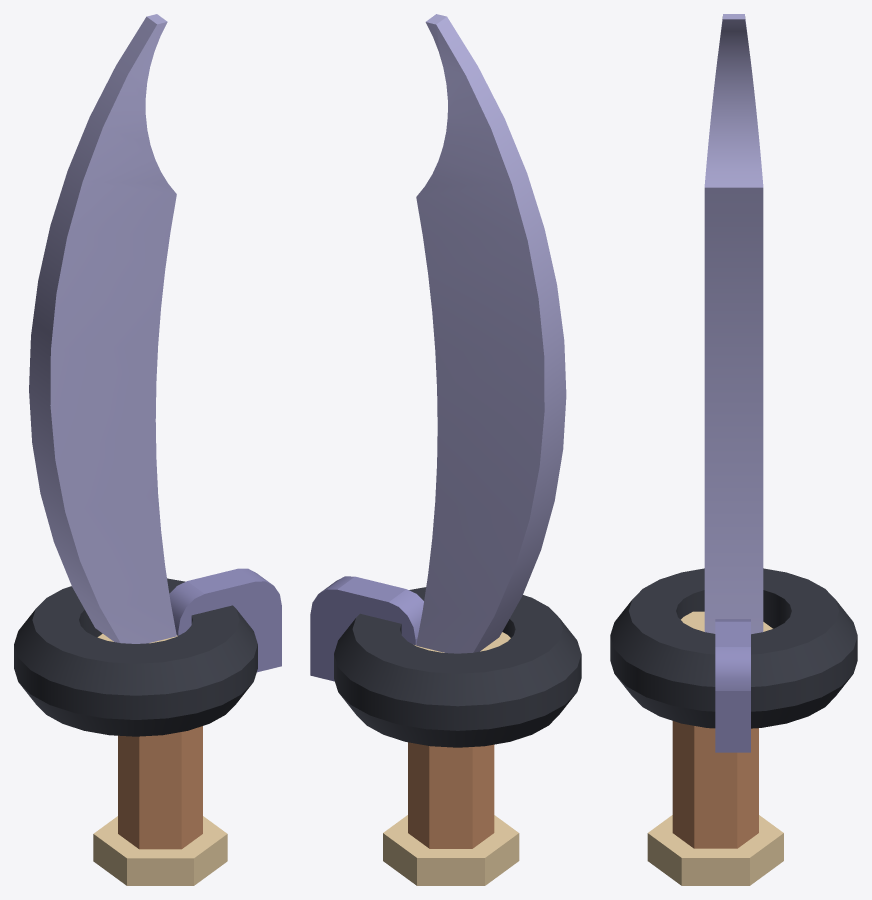
Rendered from GaurdsCutlass.fbx.
3 renders of one model, left to right at view 1: azimuth 30°, elevation 25°; view 2: azimuth 150°, elevation 25°; view 3: azimuth 270°, elevation 25°, orthographic.
Parts seen in each view (by area): view 1: mergedBlocks; view 2: mergedBlocks; view 3: mergedBlocks.
Part boxes in pixels (box(x1,y1,x2,y2)): mergedBlocks: box(14, 14, 281, 885); mergedBlocks: box(310, 14, 581, 885); mergedBlocks: box(610, 14, 857, 885).
Bounding box in the file's own units: 4.59 × 15.1 × 4.
